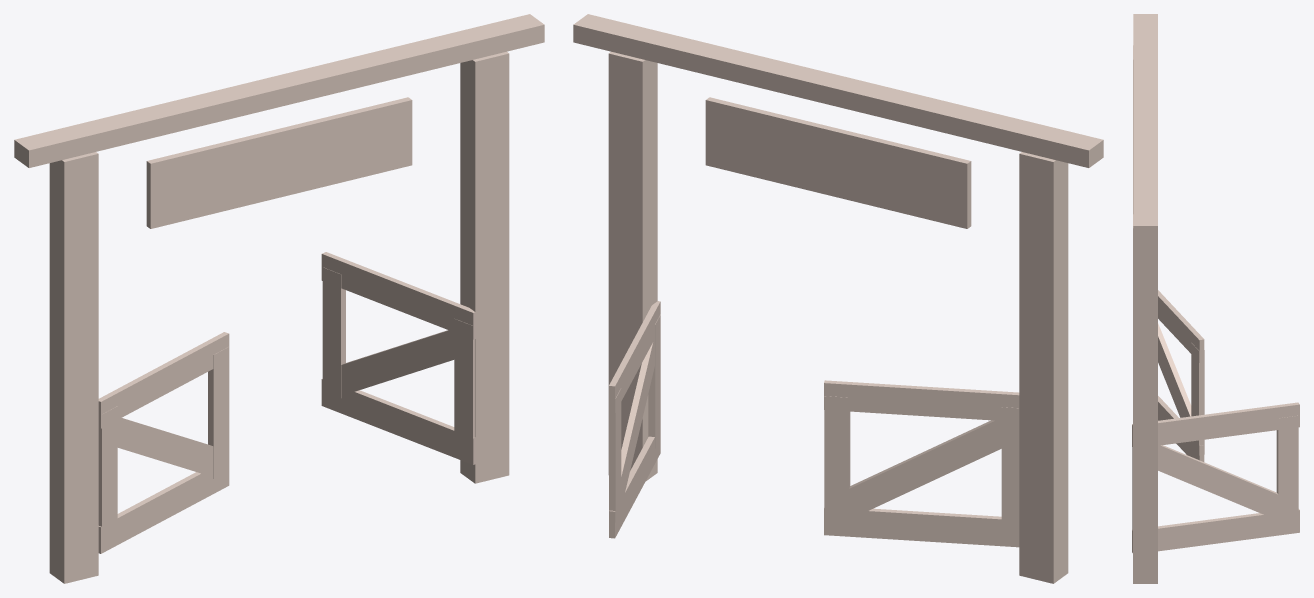
Rendered from fence_door.fbx.
The picture shows the model from 3 angles, left to right: view 1: azimuth 30°, elevation 25°; view 2: azimuth 150°, elevation 25°; view 3: azimuth 270°, elevation 25°; orthographic projection. The views are drawn at different scales.
Visible parts, largest first — view 1: pCube23; view 2: pCube23; view 3: pCube23.
Boxes of the visible parts, <box> form: pCube23: <box>14,14,544,583</box>; pCube23: <box>573,14,1103,583</box>; pCube23: <box>1132,14,1299,583</box>.
Size of the model in its own units: 402 by 329 by 134.
